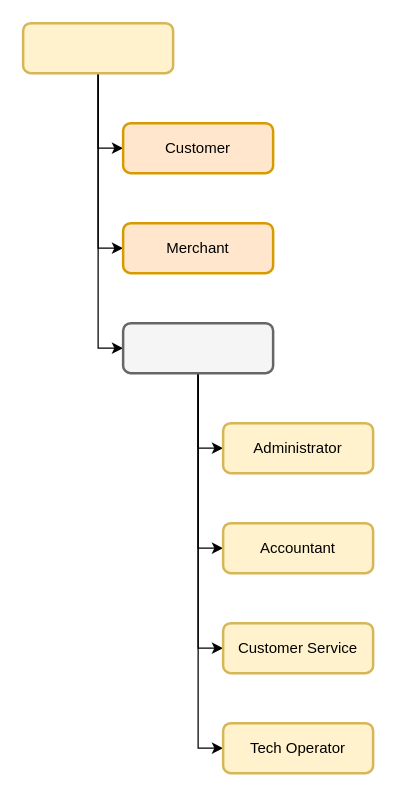
The diagram is 395 pixels wide and 795 high, and some of its shapes have lost their labels. Each missing label, with the centre of its shape:
Actors: [97,47]
Operators: [197,347]
